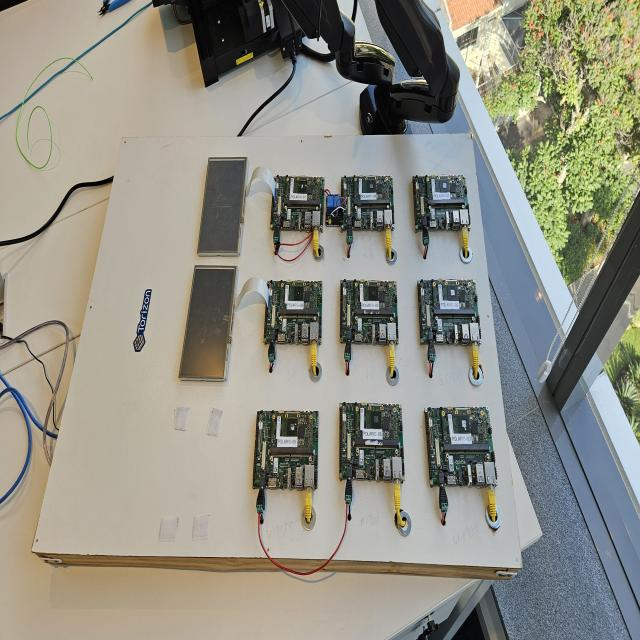som: (272, 410, 316, 453), (442, 410, 491, 448), (356, 406, 400, 444), (355, 280, 396, 315), (433, 280, 477, 312), (425, 174, 468, 203), (281, 281, 319, 313), (354, 174, 392, 206), (287, 176, 322, 205)
